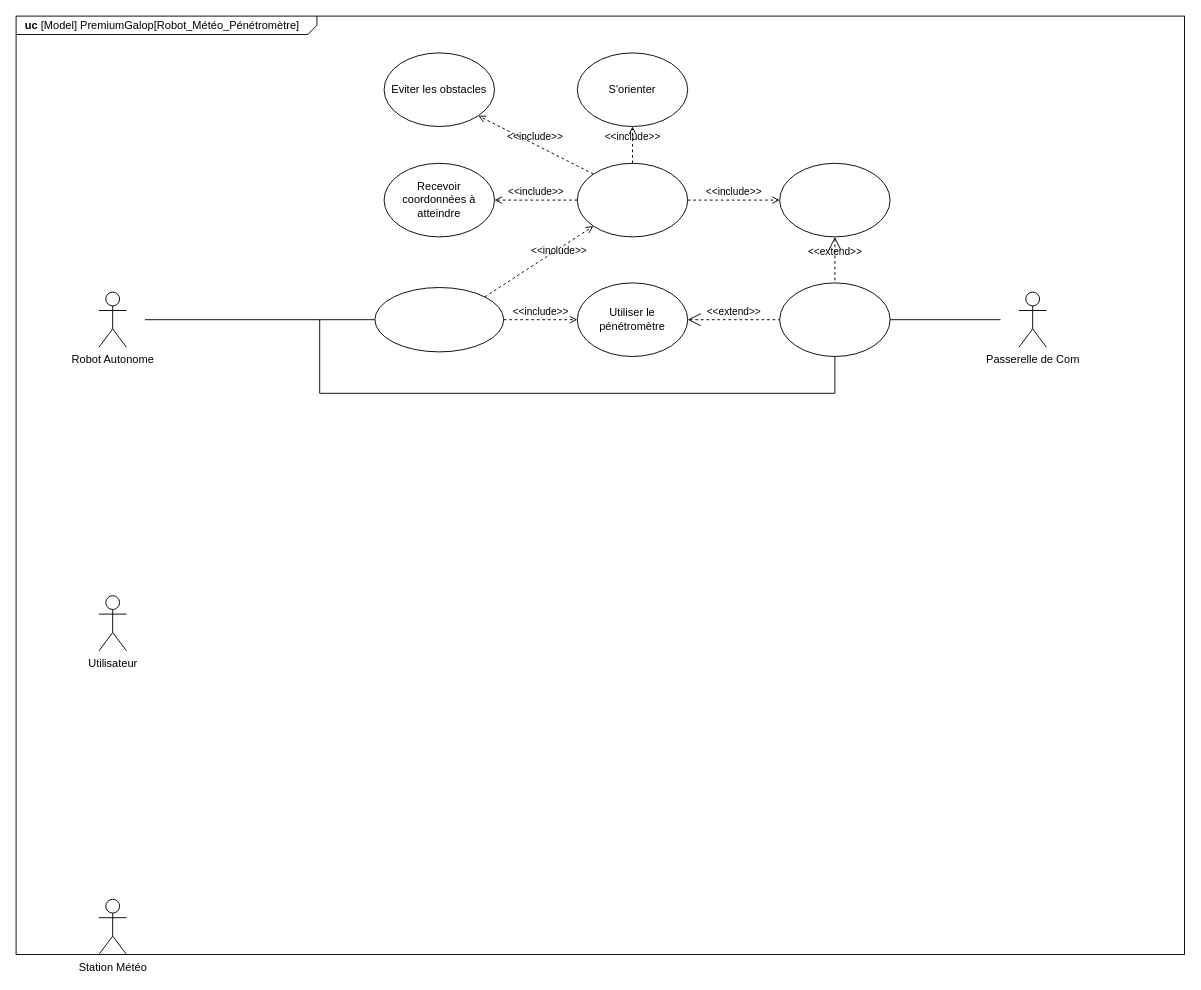
Image size: 1201x990. Some labels were removed from this diagram. Each missing label, with the centre of its shape:
Récupérer résistance du terrain: pixel 439 319
Se déplacer: pixel 632 199
Se Géolocaliser: pixel 834 199
Transmettre les données: pixel 834 319
